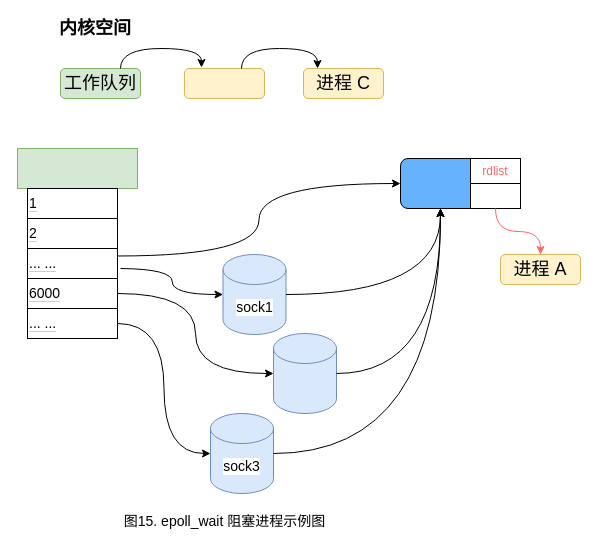
The diagram is 598 pixels wide and 553 high, and some of its shapes have lost their labels. The box of each missing label's shape, as (x1, y1, x2, y2) in pixels:
eventpoll: (400, 158, 480, 208)
sock2: (272, 332, 336, 414)
文件列表(fd): (16, 148, 138, 188)
等待队列: (470, 182, 520, 208)
进程 B: (184, 68, 264, 98)
